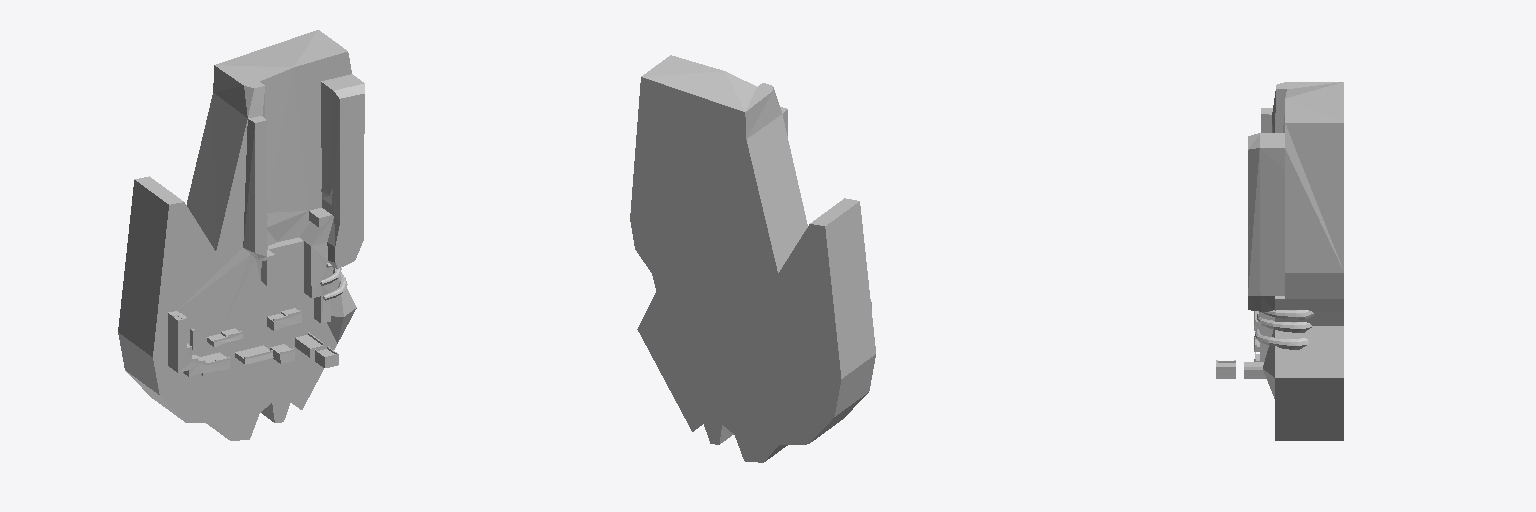
Rendered from YoshiCaptureClimbPlanet.obj.
The picture shows the model from 3 angles: view 1: azimuth 30°, elevation 25°; view 2: azimuth 150°, elevation 25°; view 3: azimuth 270°, elevation 25°; orthographic projection.
Visible parts, largest first — view 1: Mesh.007; view 2: Mesh.007; view 3: Mesh.007.
Part boxes in pixels (left/top/right/bottom): Mesh.007: left=118, top=30, right=364, bottom=440; Mesh.007: left=630, top=55, right=875, bottom=462; Mesh.007: left=1216, top=82, right=1343, bottom=440.
Bounding box in the file's own units: 11942 × 19394 × 6304.